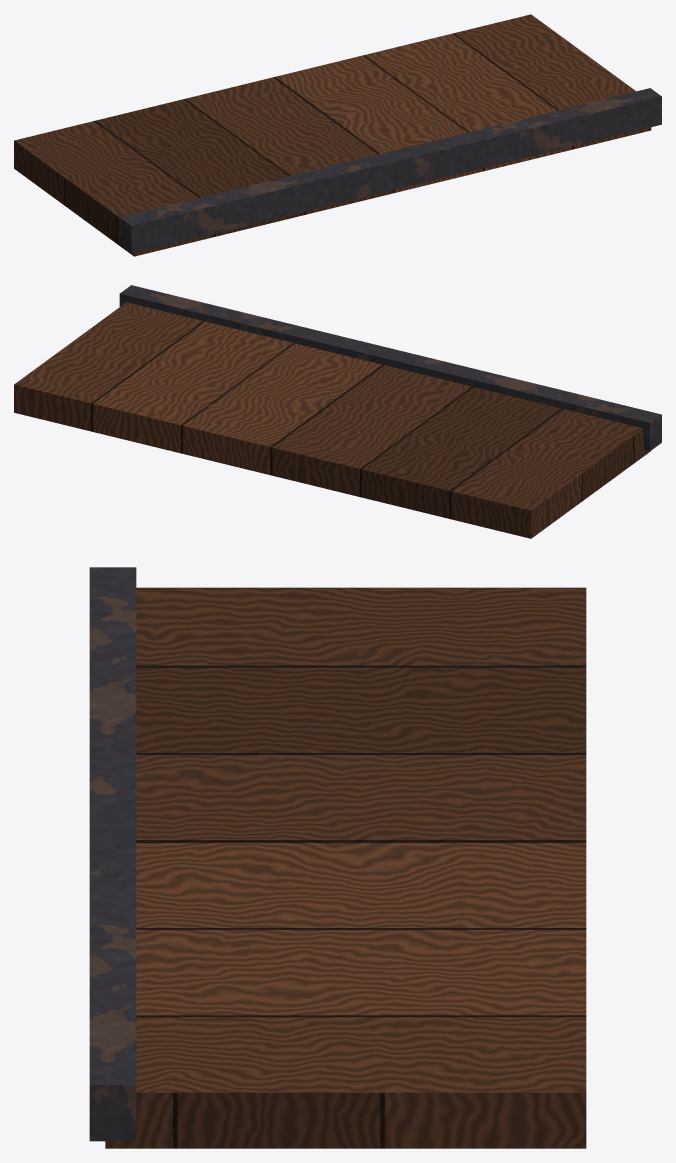
The model's file is dun_toolbox_lid.glb.
The picture shows the model from 3 angles, top to bottom: view 1: azimuth 30°, elevation 25°; view 2: azimuth 150°, elevation 25°; view 3: azimuth 270°, elevation 25°; orthographic projection. The views are drawn at different scales.
Visible parts, largest first — view 1: dun_toolbox_lid_dwood_0, dun_toolbox_lid_iron_0; view 2: dun_toolbox_lid_dwood_0, dun_toolbox_lid_iron_0; view 3: dun_toolbox_lid_dwood_0, dun_toolbox_lid_iron_0.
Boxes of the visible parts, x1,y1,x2,y2 form: dun_toolbox_lid_dwood_0: (14,14,651,256); dun_toolbox_lid_iron_0: (119,88,661,253); dun_toolbox_lid_dwood_0: (14,302,650,538); dun_toolbox_lid_iron_0: (119,285,661,450); dun_toolbox_lid_dwood_0: (105,587,586,1148); dun_toolbox_lid_iron_0: (89,567,136,1141).
Bounding box in the file's own units: 1.58 × 0.1 × 0.64.
2 materials, 2 textured.
